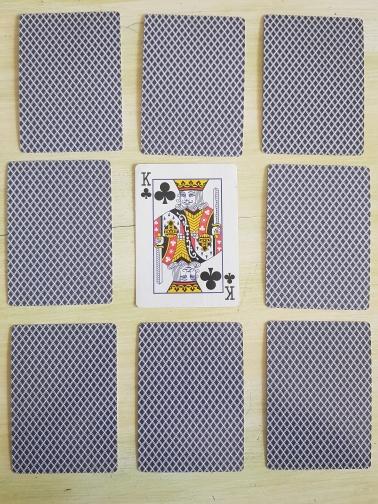king: (135, 163, 240, 310)
